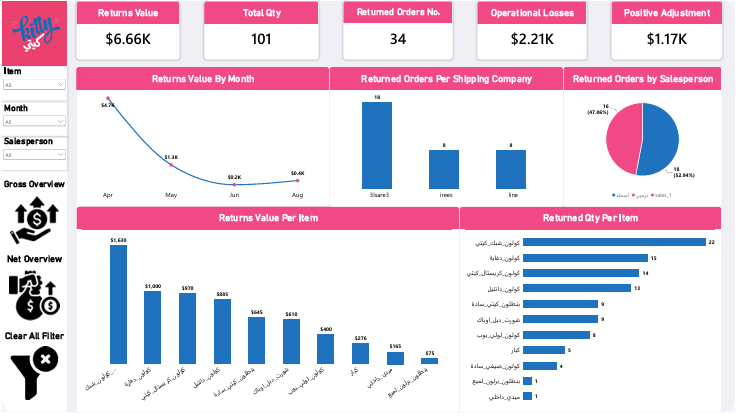

The dashboard page shown, as its layout file describes it:
{"tool":"powerbi","page":{"name":"Returns","canvas":[1920,1080],"ordinal":3},"visuals":[{"type":"card","title":"Returns Value","fields":{"Values":["_Measure.Total Returns"]},"box":[196.5,0,270,153.1],"z":0},{"type":"card","title":"Total Qty","fields":{"Values":["_Measure.ReturnQty"]},"box":[530.8,0,299.8,153.1],"z":1000},{"type":"card","title":"Operational Losses","fields":{"Values":["_Measure.Opertional Loses"]},"box":[1246.2,0,287,153.1],"z":2000},{"type":"card","title":"Positive Adjustment","fields":{"Values":["_Measure.Positive Adjustment"]},"box":[1597.5,0,289.1,153.1],"z":3000},{"type":"image","box":[0,0,174.3,168],"z":4000},{"type":"lineChart","title":"Returns Value  By Month","fields":{"Category":["DimDate.Short Month"],"Y":["_Measure.Total Returns"]},"box":[195.6,172.2,663.3,367.8],"z":5000},{"type":"clusteredBarChart","title":"Returned Qty Per Item","fields":{"Category":["DimItem.الصنف"],"Y":["_Measure.ReturnQty"]},"box":[1199.4,539.2,685.4,541.7],"z":6000},{"type":"columnChart","title":"Returns Value Per Item","fields":{"Category":["DimItem.الصنف"],"Y":["_Measure.Total Returns"]},"box":[196.5,539.2,1002.8,541.7],"z":7000},{"type":"pieChart","title":"Returned Orders by Salesperson","fields":{"Category":["DimSalesperson.المسئول عن الاوردر"],"Y":["_Measure.NumberOfOrderReturned"]},"box":[1471.2,172.2,414.6,367.8],"z":8000},{"type":"columnChart","title":"Returned Orders Per Shipping Company ","fields":{"Y":["_Measure.NumberOfOrderReturned"],"Category":["DimShippingCompany.شركة الشحن"]},"box":[858.9,172.2,612.3,367.8],"z":9000},{"type":"slicer","title":"Item","fields":{"Values":["DimItem.الصنف"]},"box":[0,171.3,173.9,88.2],"z":10000},{"type":"slicer","fields":{"Values":["DimDate.Full Month"]},"box":[0,267.1,173.9,88.2],"z":11000},{"type":"slicer","fields":{"Values":["DimSalesperson.المسئول عن الاوردر"]},"box":[0,355.3,173.9,88.2],"z":12000},{"type":"card","title":"Returned Orders No.","fields":{"Values":["_Measure.NumberOfOrderReturned"]},"box":[894.9,0,287,153.1],"z":13000},{"type":"image","title":"Gross Overview","box":[0,465.6,174.3,176.5],"z":13001},{"type":"image","title":"Net Overview","box":[0,663.3,174.3,174.3],"z":13002},{"type":"image","title":"Clear All Filter","box":[0,863.1,174.3,185],"z":13003}]}

Visuals, with their boxes in screenshot pixels (x1, y1, x2, y2), scaled from the page's 1920x1080 canvas onto the 736x417 screenshot:
"Returns Value" card: box(75, 0, 179, 59)
"Total Qty" card: box(203, 0, 318, 59)
"Operational Losses" card: box(478, 0, 588, 59)
"Positive Adjustment" card: box(612, 0, 723, 59)
image: box(0, 0, 67, 65)
"Returns Value  By Month" lineChart: box(75, 66, 329, 208)
"Returned Qty Per Item" clusteredBarChart: box(460, 208, 723, 416)
"Returns Value Per Item" columnChart: box(75, 208, 460, 416)
"Returned Orders by Salesperson" pieChart: box(564, 66, 723, 208)
"Returned Orders Per Shipping Company " columnChart: box(329, 66, 564, 208)
"Item" slicer: box(0, 66, 67, 100)
slicer - DimDate.Full Month: box(0, 103, 67, 137)
slicer - DimSalesperson.المسئول عن الاوردر: box(0, 137, 67, 171)
"Returned Orders No." card: box(343, 0, 453, 59)
"Gross Overview" image: box(0, 180, 67, 248)
"Net Overview" image: box(0, 256, 67, 323)
"Clear All Filter" image: box(0, 333, 67, 405)
